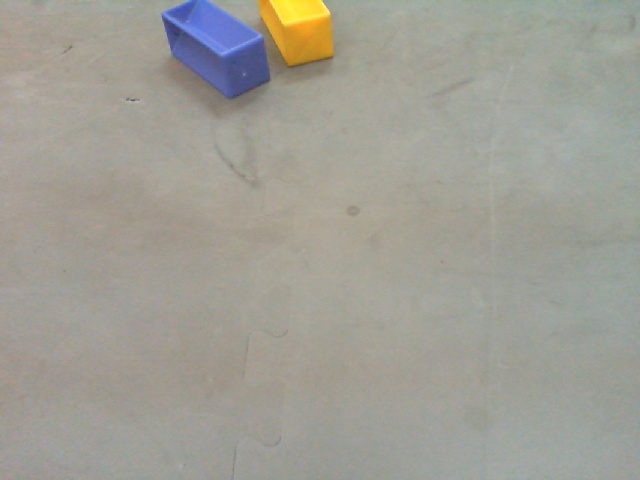BlueSample: (159, 1, 273, 101)
YellowSample: (256, 1, 337, 69)
